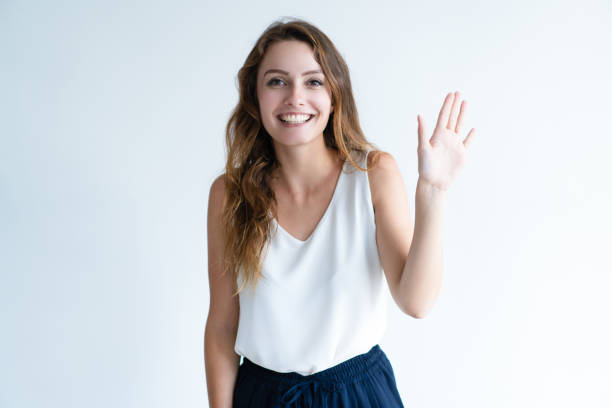open_hand: (406, 83, 497, 196)
